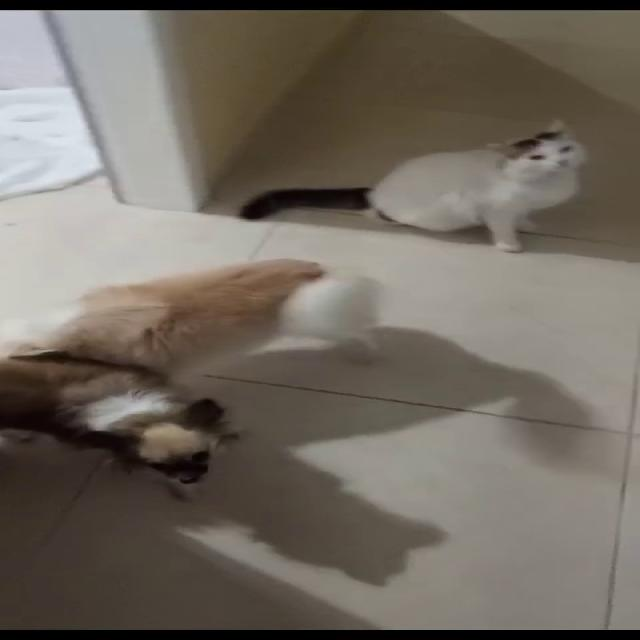Pedrita: (15, 340, 216, 483)
Simba: (332, 107, 626, 279)
Theo: (80, 271, 390, 383)
